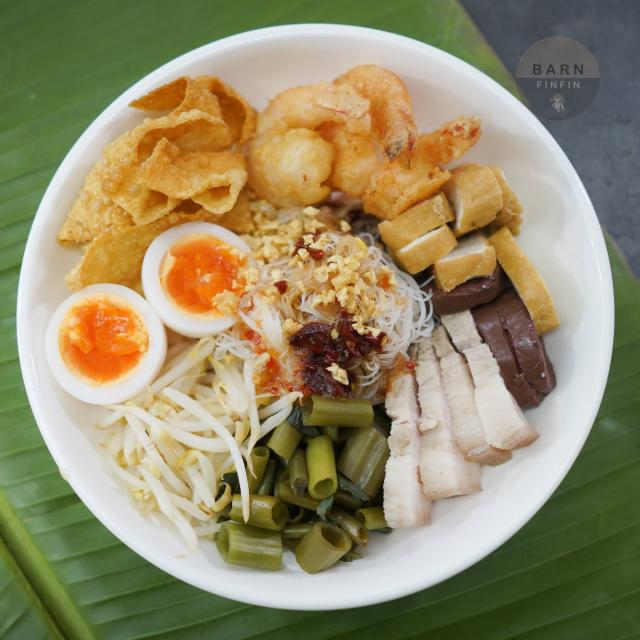Carbohydrate: (237, 207, 432, 405)
Protein: (43, 76, 555, 399), (368, 312, 540, 534)
Taokua: (19, 21, 614, 617)
Vegetable: (102, 340, 390, 579)
